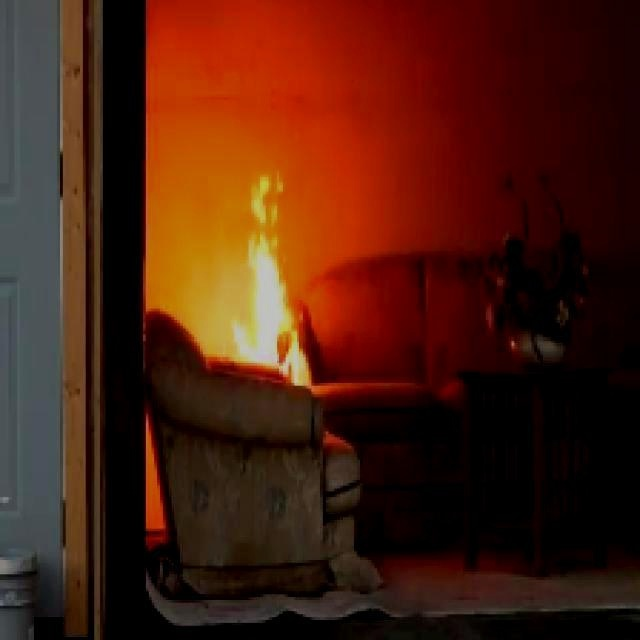fire: (229, 157, 317, 376)
